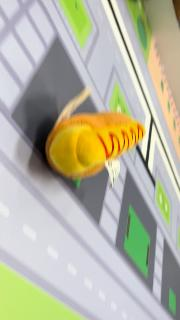hotdog: (46, 110, 146, 180)
